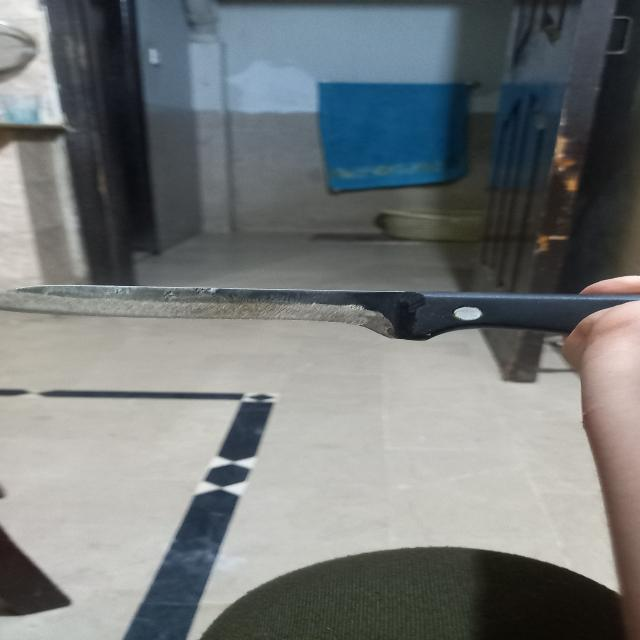Knife: (1, 277, 640, 350)
